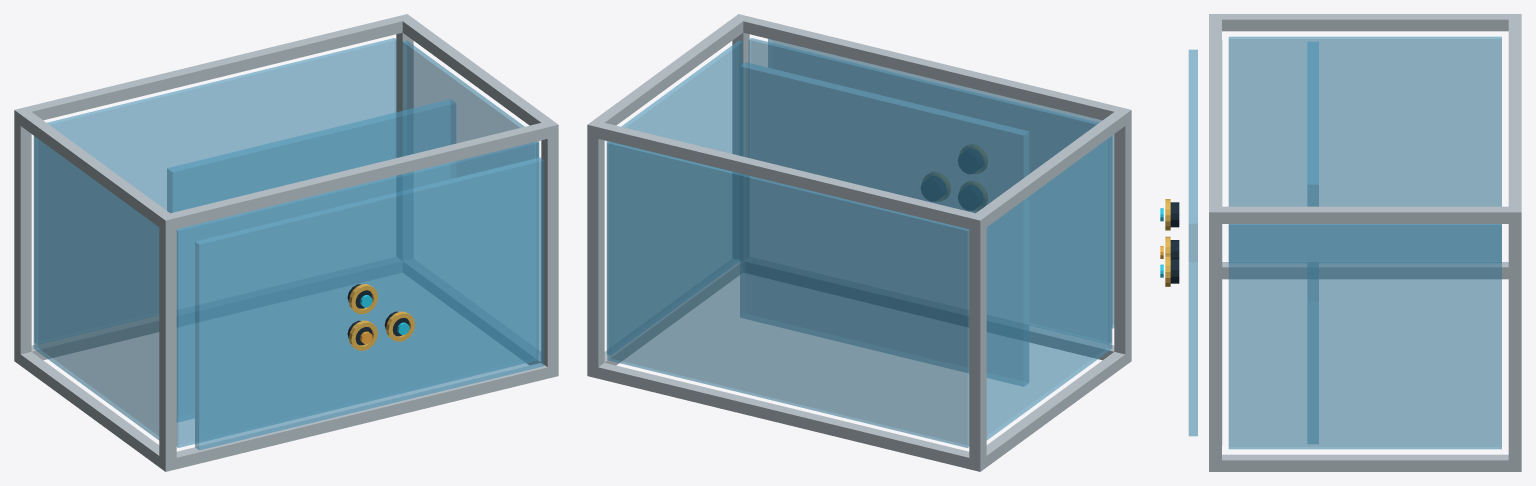
Rendered from 36_L83_ProtectedBatteryCellTray.fbx.
3 renders of one model, left to right at view 1: azimuth 30°, elevation 25°; view 2: azimuth 150°, elevation 25°; view 3: azimuth 270°, elevation 25°, orthographic. The views are drawn at different scales.
Visible parts, largest first — view 1: ProtectedBatteryCellTray, ProtectedBatteryCellTray_Part_0016, ProtectedBatteryCellTray_Part_0017; view 2: ProtectedBatteryCellTray, ProtectedBatteryCellTray_Part_0017, ProtectedBatteryCellTray_Part_0016; view 3: ProtectedBatteryCellTray, ProtectedBatteryCellTray_Part_0017, ProtectedBatteryCellTray_Part_0016.
Boxes of the visible parts, <box> form: ProtectedBatteryCellTray: <box>14,14,558,471</box>; ProtectedBatteryCellTray_Part_0016: <box>195,157,544,450</box>; ProtectedBatteryCellTray_Part_0017: <box>167,99,456,422</box>; ProtectedBatteryCellTray: <box>587,14,1131,471</box>; ProtectedBatteryCellTray_Part_0017: <box>740,62,1029,386</box>; ProtectedBatteryCellTray_Part_0016: <box>768,39,1114,328</box>; ProtectedBatteryCellTray: <box>1160,14,1521,471</box>; ProtectedBatteryCellTray_Part_0017: <box>1307,41,1318,443</box>; ProtectedBatteryCellTray_Part_0016: <box>1188,49,1197,436</box>.
Size of the model in its own units: 180 by 110 by 139.
